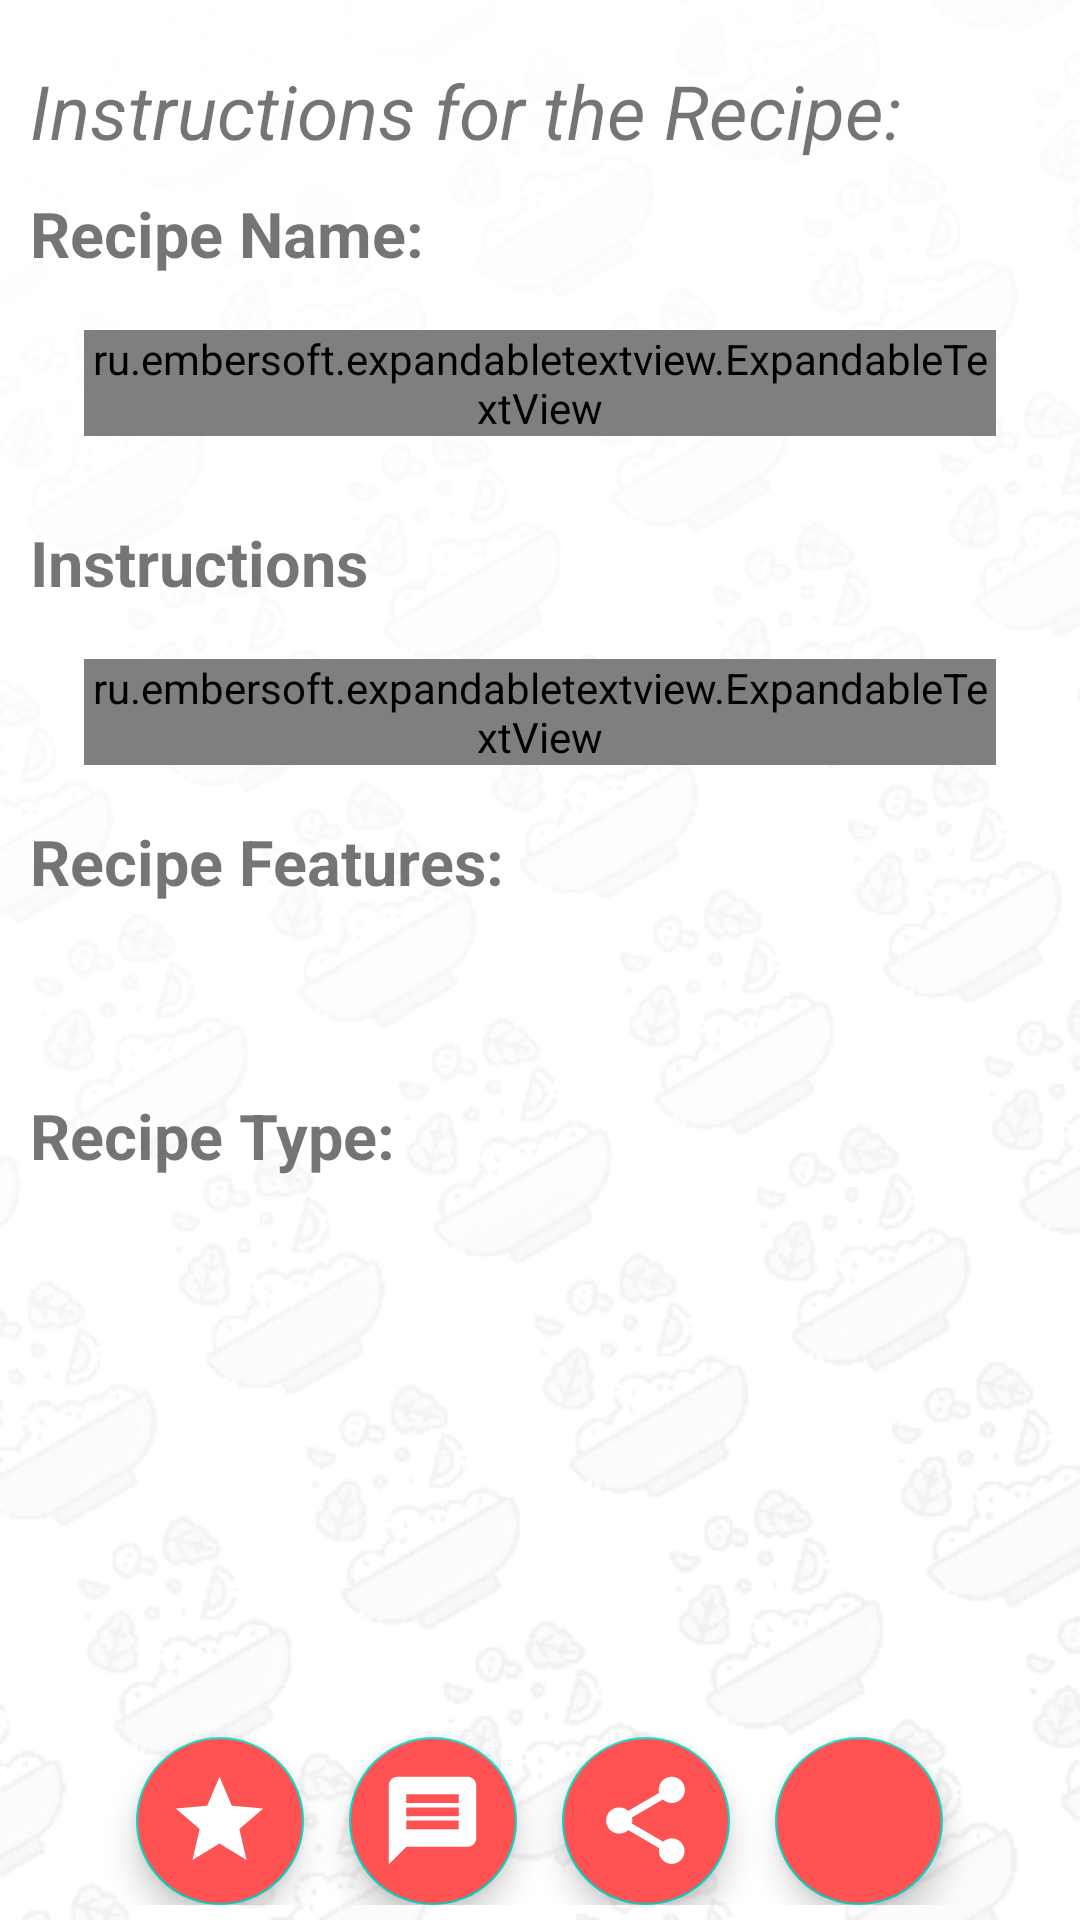

Icon click points for this 1080px×1920px phone screenshot, format [x,y]:
message: [433,1821]
share: [646,1821]
star: [220,1821]
